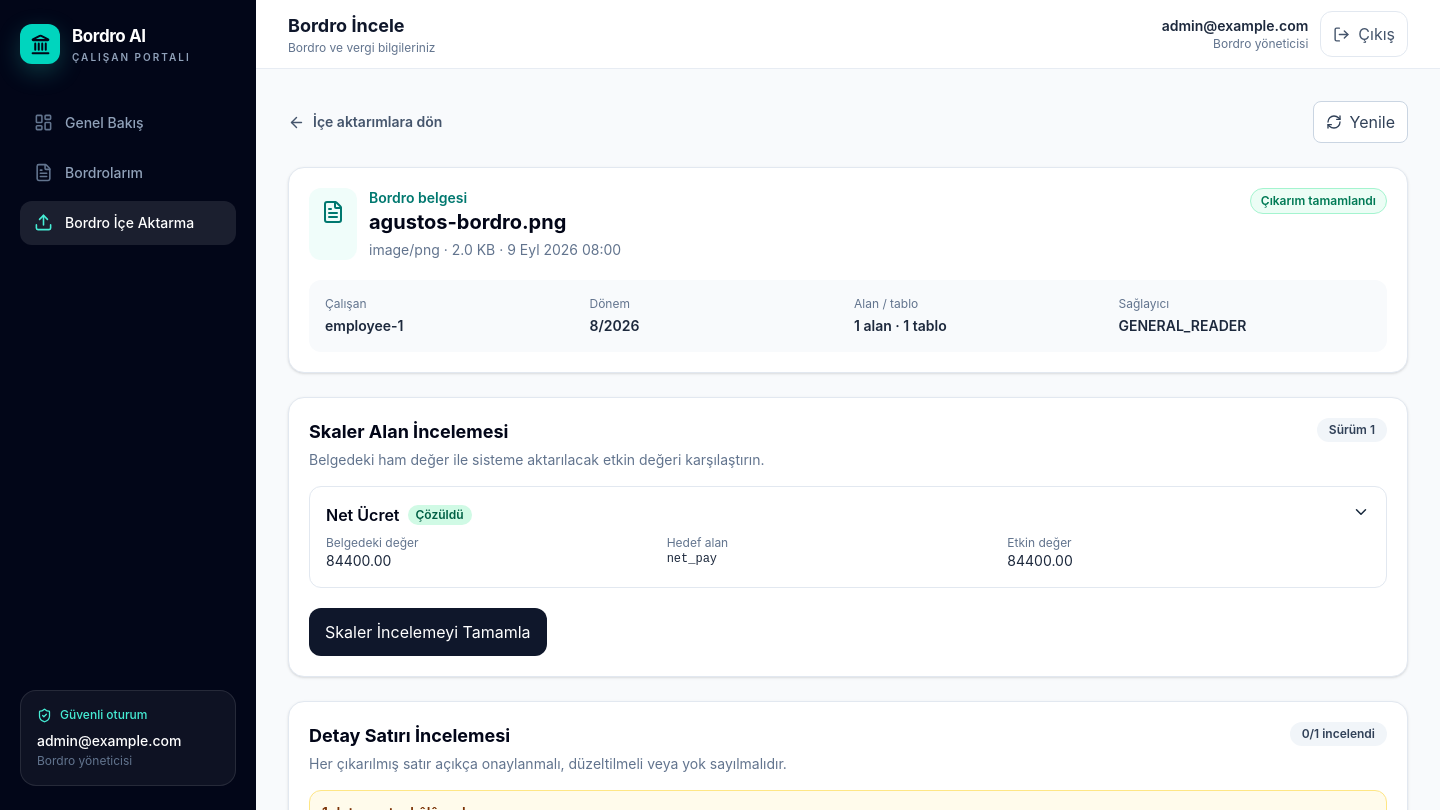
Scenario: V2.2A payroll import experience › saves scalar and detail human review with optimistic evidence versions
The width and height of the screenshot is (1440, 810).
Click the button "Net Ücret": {"x": 363, "y": 515} [310,487,1386,587]
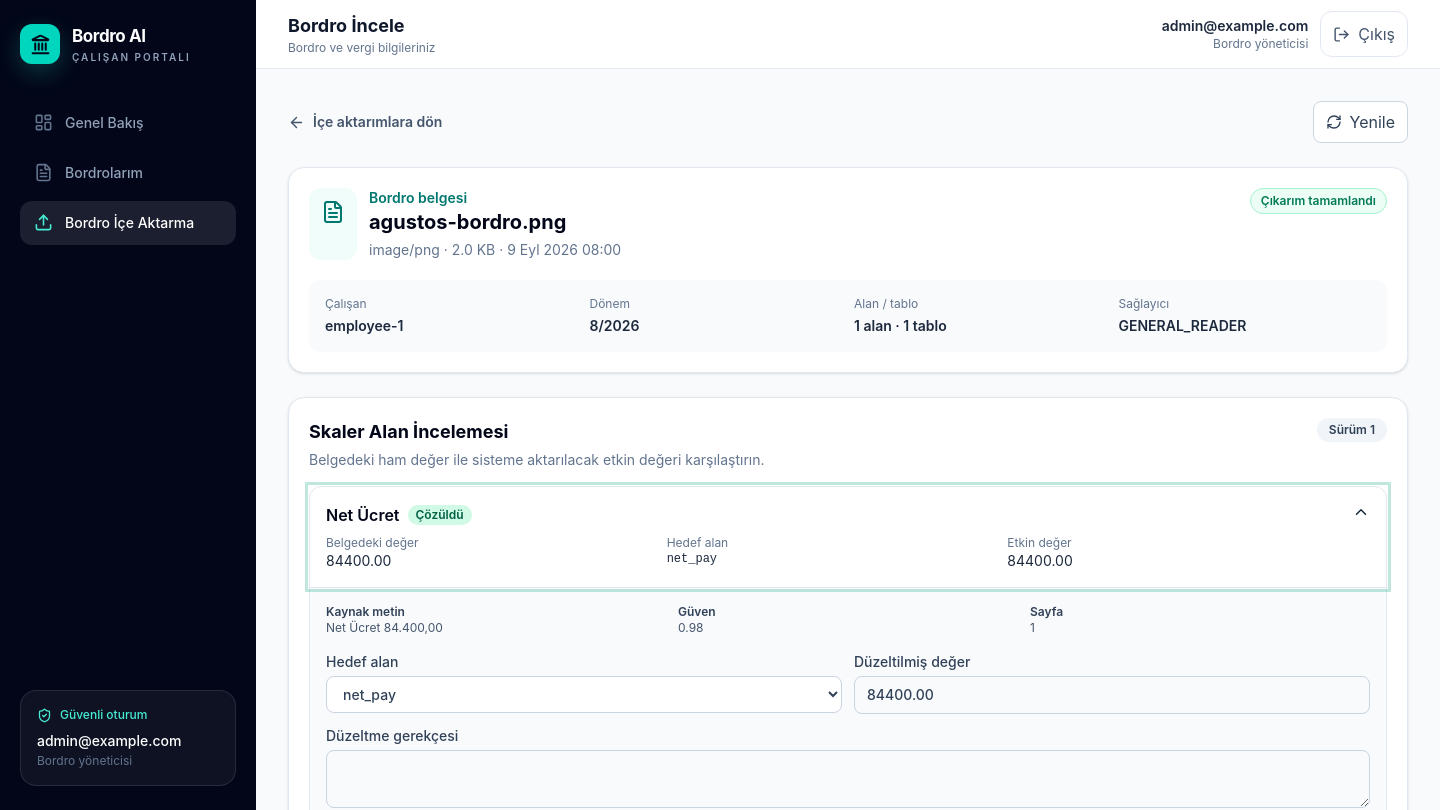
In the text box named "Net Ücret düzeltme gerekçesi": {"x": 848, "y": 779} [326,750,1370,808], type "Belge ile karşılaştırıldı"
(page scrolled)
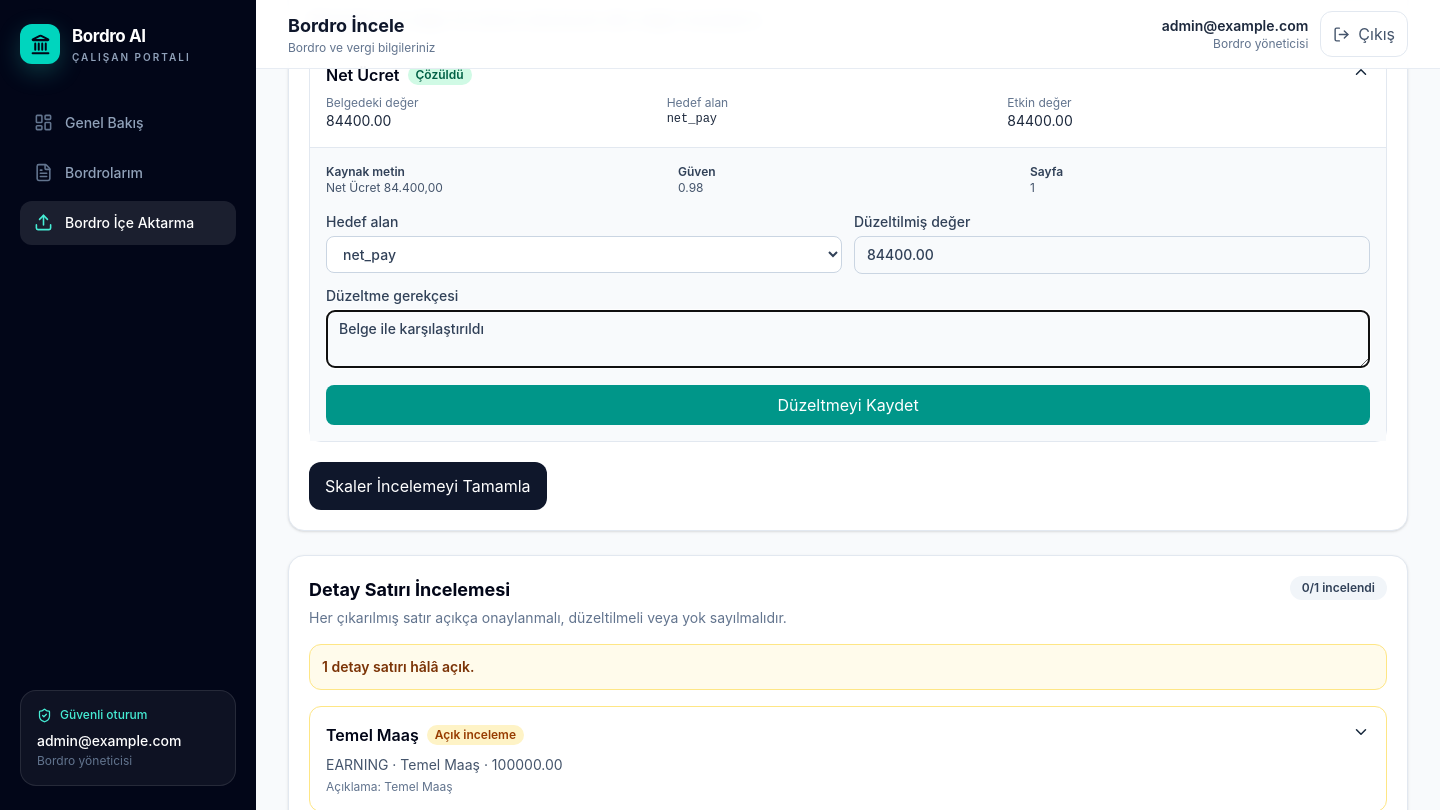
Click the button "Düzeltmeyi Kaydet": {"x": 848, "y": 405} [326,385,1370,425]
(page scrolled)
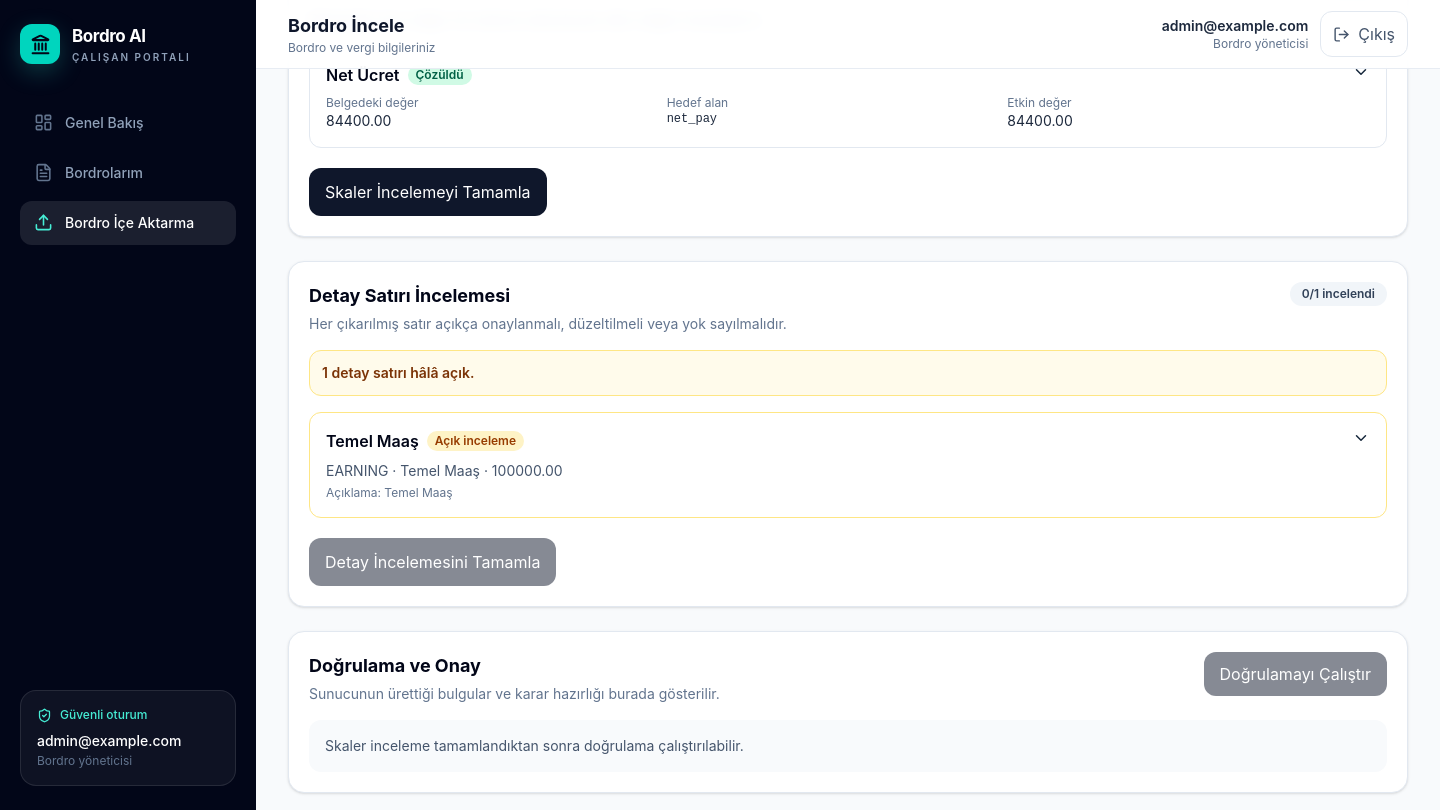
Click the button "Temel Maaş": {"x": 372, "y": 441} [310,413,1386,517]
(page scrolled)
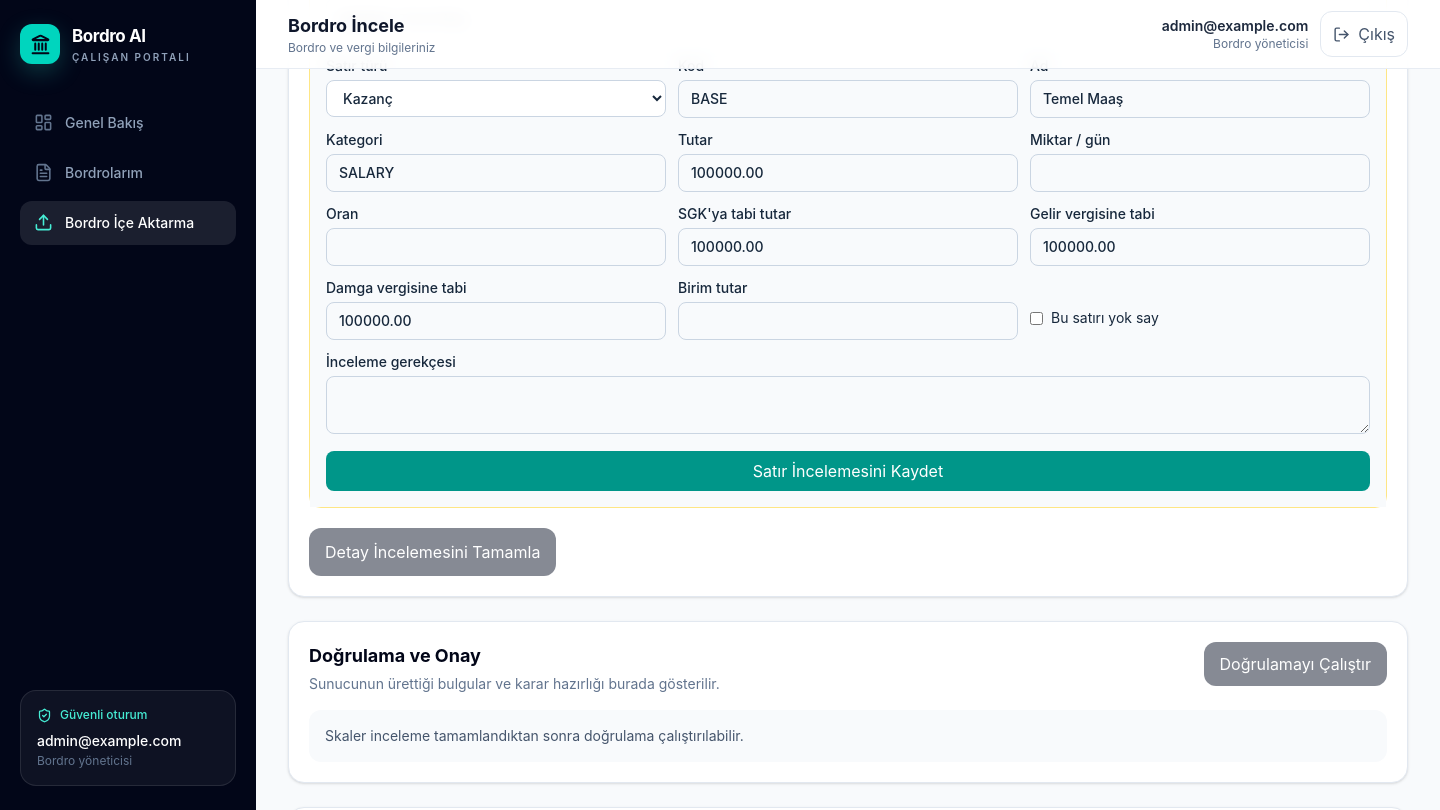
In the text box labelled "İnceleme gerekçesi": {"x": 848, "y": 405} [326,376,1370,434], type "Satır doğrulandı"
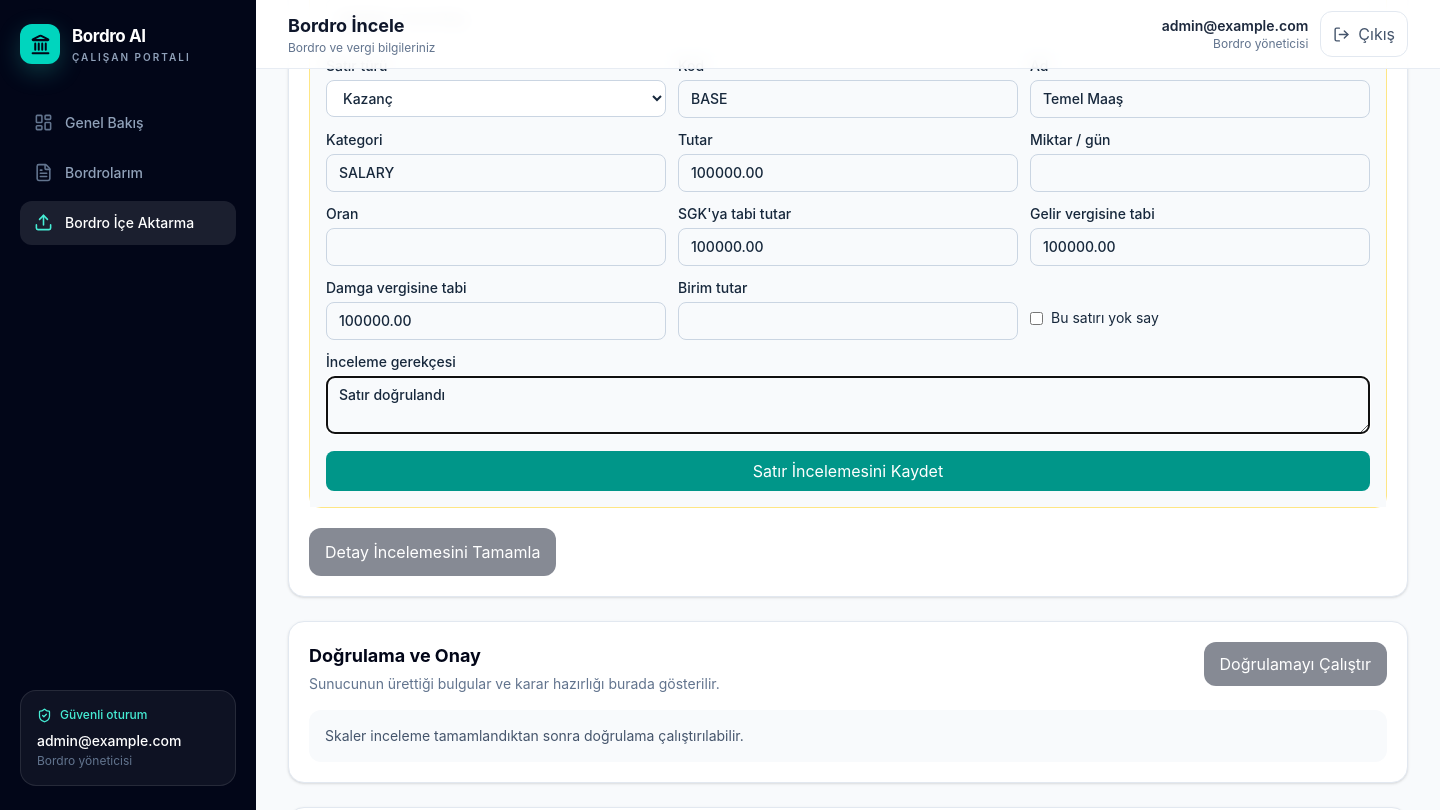
Click the button "Satır İncelemesini Kaydet": {"x": 848, "y": 471} [326,451,1370,491]
(page scrolled)
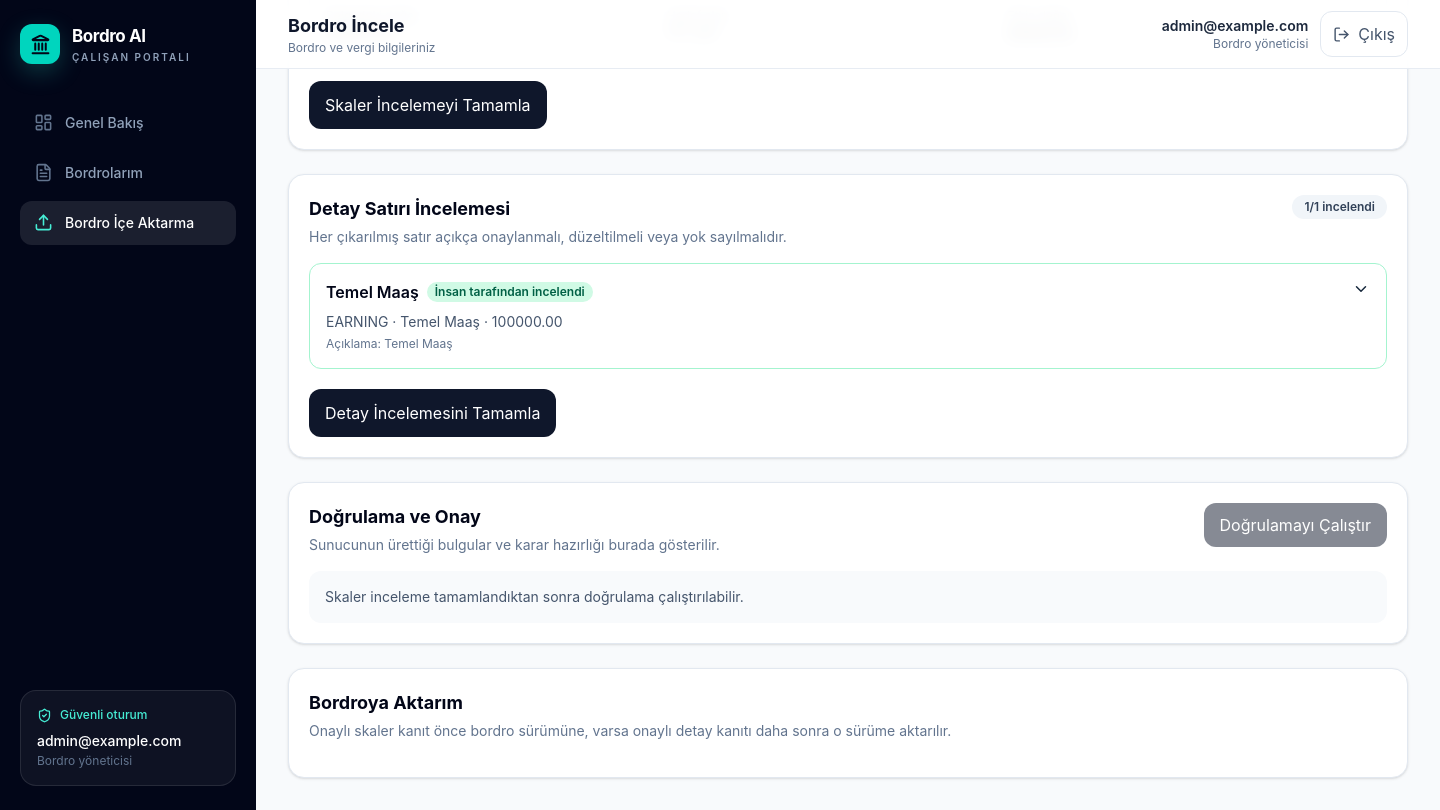
Result: the button "Detay İncelemesini Tamamla" is enabled at [309,389,556,437]
